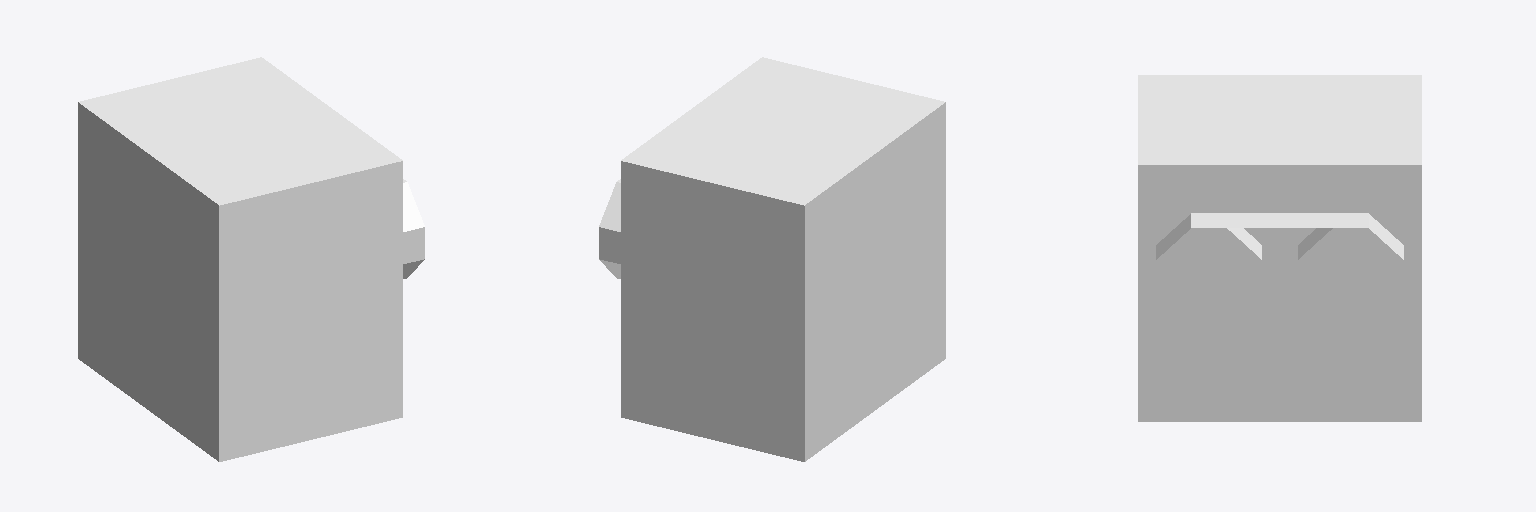
The model's file is tape_recorder.obj.
The picture shows the model from 3 angles: view 1: azimuth 30°, elevation 25°; view 2: azimuth 150°, elevation 25°; view 3: azimuth 270°, elevation 25°; orthographic projection.
Visible parts, largest first — view 1: tape_recorder; view 2: tape_recorder; view 3: tape_recorder.
Part boxes in pixels (x1,y1,x2,y2): tape_recorder: (78,57,424,461); tape_recorder: (599,57,945,461); tape_recorder: (1138,75,1421,421).
Bounding box in the file's own units: 0.875 × 1 × 1.